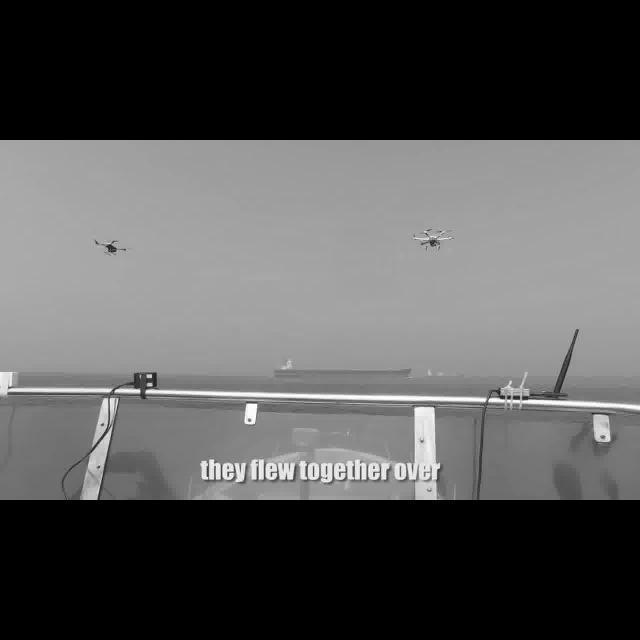Drons: (77, 225, 139, 268), (410, 220, 458, 260)
